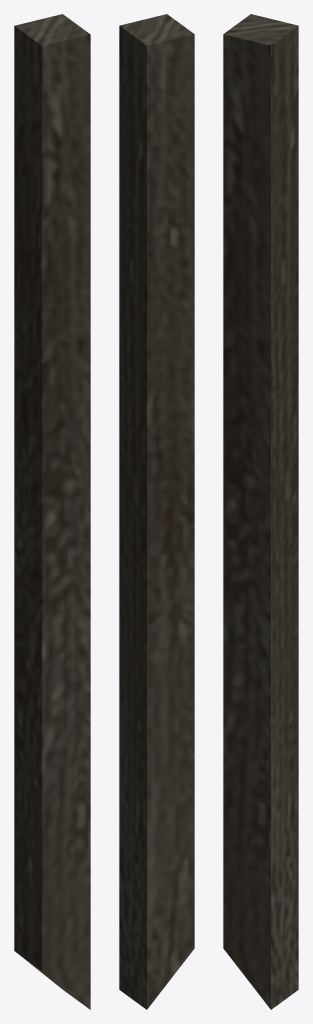
File: WoodenPlankPilarMk2.fbx
3 renders of one model, left to right at view 1: azimuth 30°, elevation 25°; view 2: azimuth 210°, elevation 25°; view 3: azimuth 330°, elevation 25°, orthographic.
Visible parts, largest first — view 1: Cube.001; view 2: Cube.001; view 3: Cube.001.
Part boxes in pixels (x1,y1,x2,y2): Cube.001: (14, 14, 90, 1009); Cube.001: (119, 14, 194, 1009); Cube.001: (223, 14, 298, 1009).
Size of the model in its own units: 17.98 by 348 by 17.98.
Materials: 1 (1 with a texture image).
